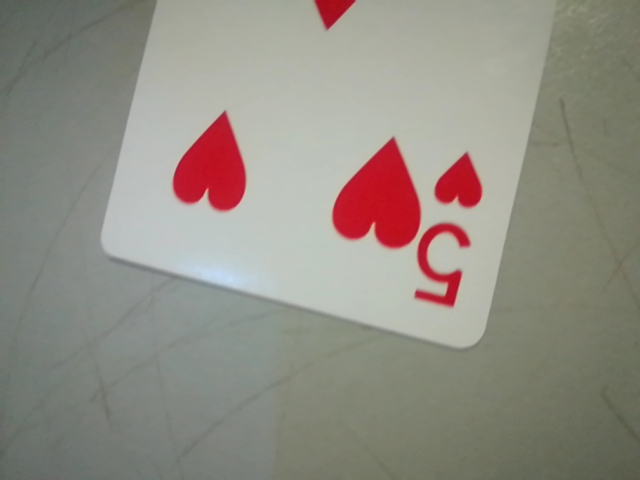hx 5: (412, 138, 492, 326)
